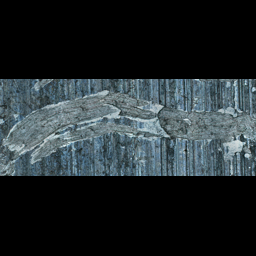d: (41, 88, 144, 146), (127, 94, 208, 144), (1, 110, 61, 173), (209, 100, 256, 167), (223, 79, 256, 95)
